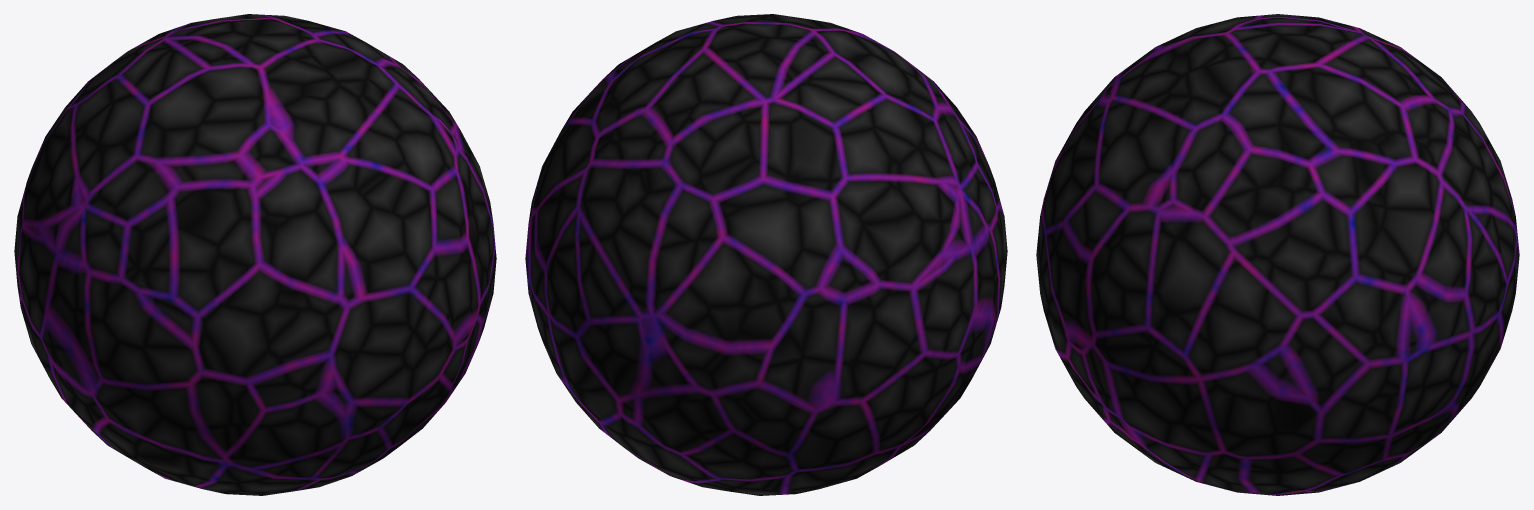
File: magic magma.fbx
3 renders of one model, left to right at view 1: azimuth 30°, elevation 25°; view 2: azimuth 150°, elevation 25°; view 3: azimuth 270°, elevation 25°, orthographic.
Parts seen in each view (by area): view 1: Roundcube; view 2: Roundcube; view 3: Roundcube.
Boxes of the visible parts, x1,y1,x2,y2 form: Roundcube: [14, 14, 496, 495]; Roundcube: [525, 14, 1007, 495]; Roundcube: [1036, 14, 1519, 495].
Size of the model in its own units: 200 by 200 by 200.
